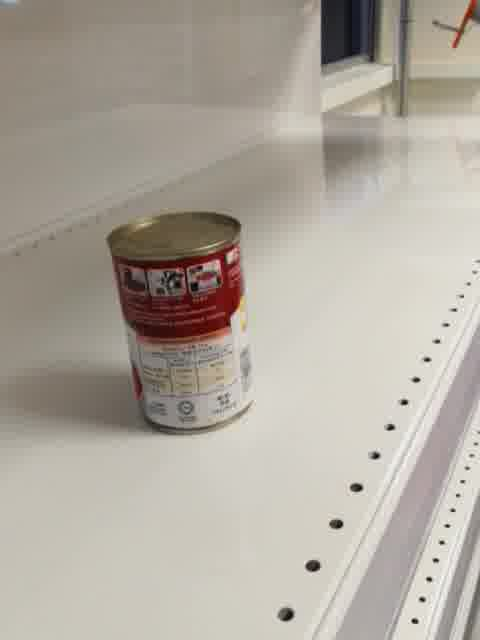tomatosoup: (103, 210, 257, 436)
